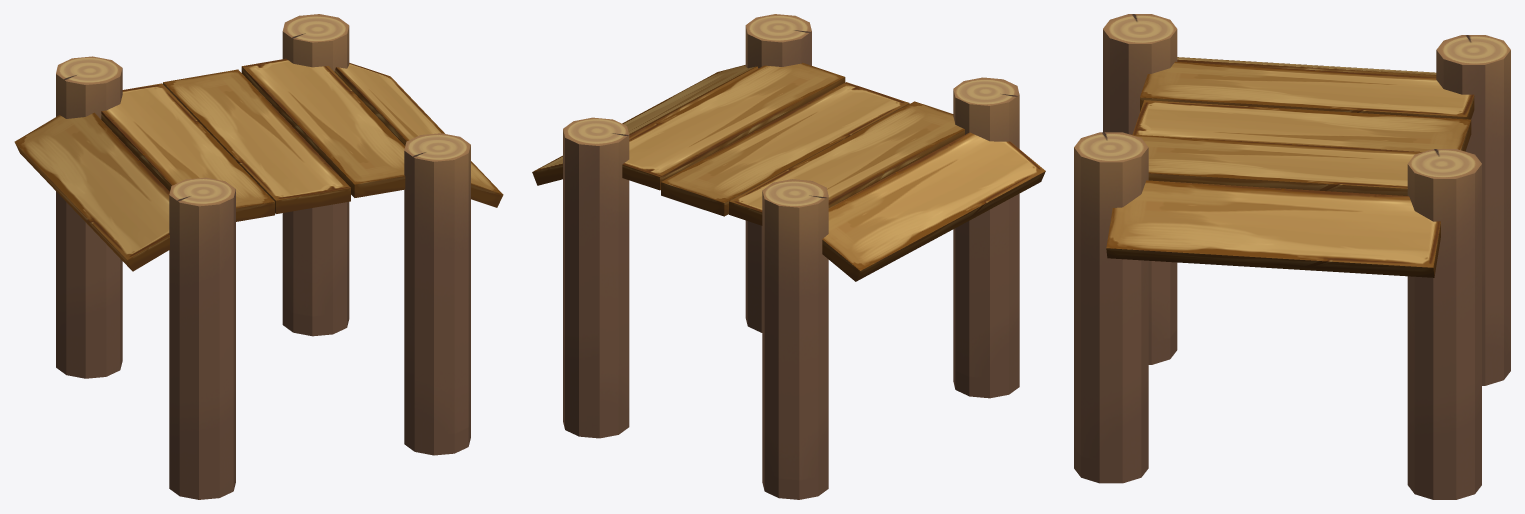
The model's file is bridge.fbx.
3 views of the same model, side by side, from view 1: azimuth 30°, elevation 25°; view 2: azimuth 150°, elevation 25°; view 3: azimuth 270°, elevation 25° (orthographic). The views are drawn at different scales.
Visible parts, largest first — view 1: Cube.002; view 2: Cube.002; view 3: Cube.002.
Part boxes in pixels (x1,y1,x2,y2): Cube.002: (14, 14, 503, 499); Cube.002: (532, 14, 1045, 499); Cube.002: (1074, 14, 1510, 499).
Bounding box in the file's own units: 732 × 527 × 650.
